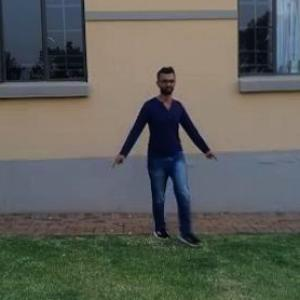land: (106, 69, 222, 245)
